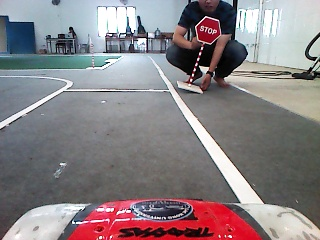stop: (195, 16, 222, 45)
